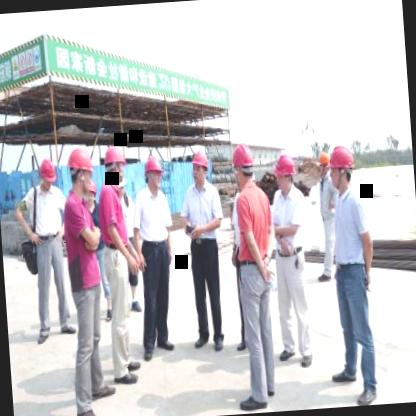helmet: (66, 146, 99, 200), (325, 142, 356, 196), (228, 140, 254, 190), (100, 142, 127, 186), (142, 149, 166, 194), (274, 150, 298, 193), (188, 144, 212, 186), (34, 154, 58, 194), (314, 148, 332, 184)
